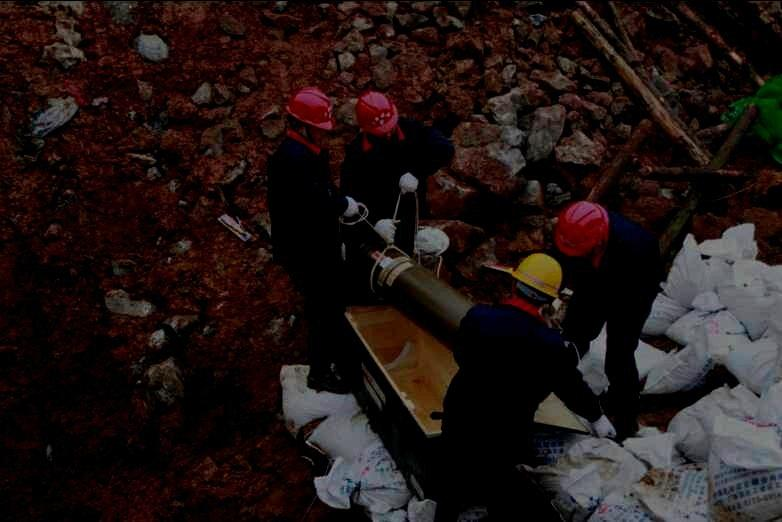helmet: (284, 85, 336, 145), (554, 199, 608, 256), (510, 253, 562, 310), (353, 87, 399, 139)
